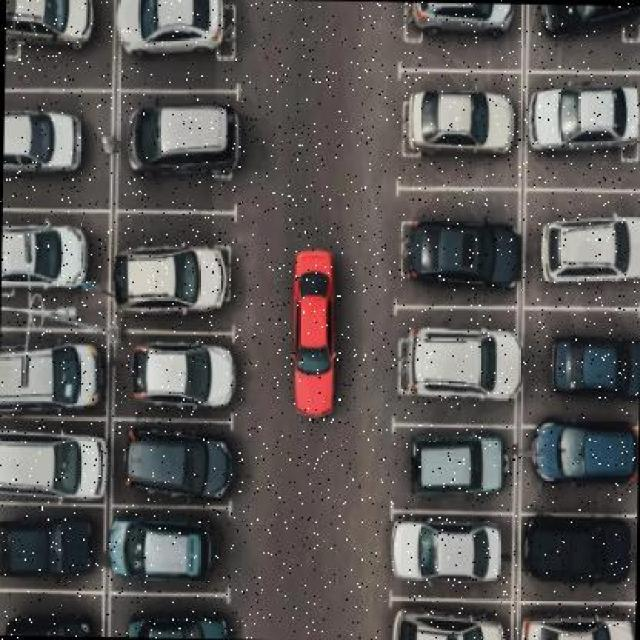Car: (289, 224, 346, 412), (527, 421, 640, 513), (140, 324, 237, 421), (134, 89, 234, 180), (141, 221, 236, 309), (533, 73, 640, 147), (392, 332, 524, 389), (393, 521, 506, 587), (409, 421, 510, 492), (523, 515, 630, 582), (540, 320, 640, 389), (4, 101, 93, 178), (120, 519, 227, 581), (120, 438, 243, 489), (541, 220, 636, 286), (6, 230, 93, 298), (400, 221, 517, 270), (13, 338, 95, 406), (2, 440, 115, 489), (8, 1, 99, 59), (124, 1, 230, 50), (21, 514, 95, 580), (418, 3, 519, 43), (118, 606, 227, 640), (401, 109, 516, 141), (399, 608, 497, 640), (541, 6, 610, 43), (501, 619, 621, 640), (9, 609, 100, 636)
